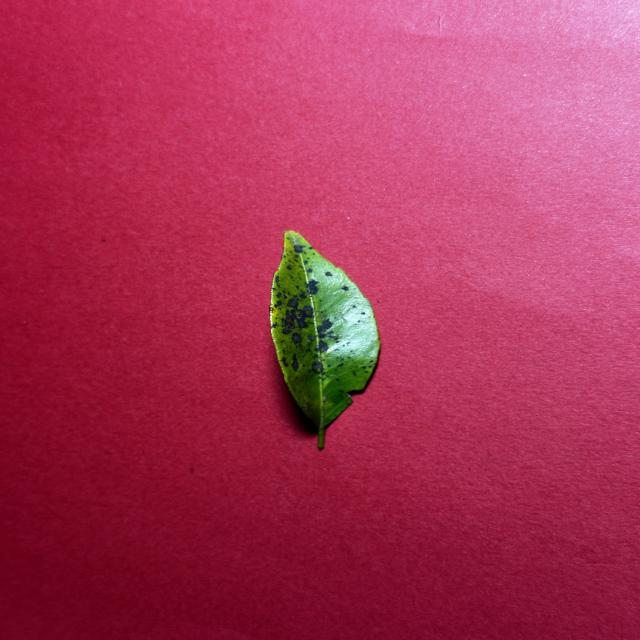sooty_mold: (270, 231, 380, 448)
